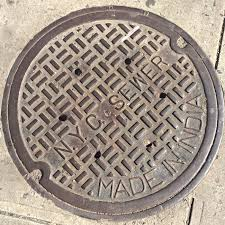manhole: (2, 1, 224, 224)
